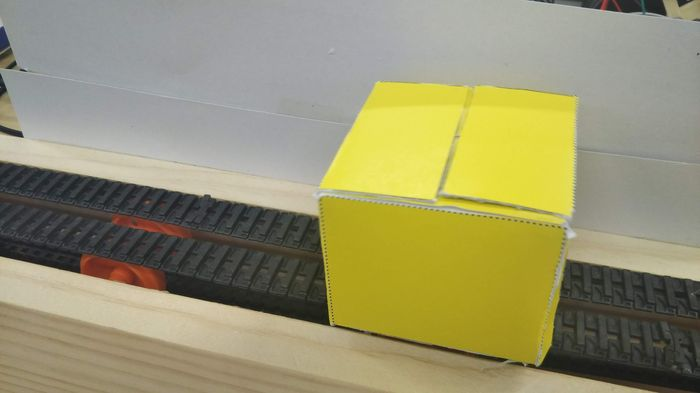box4: (308, 71, 592, 371)
